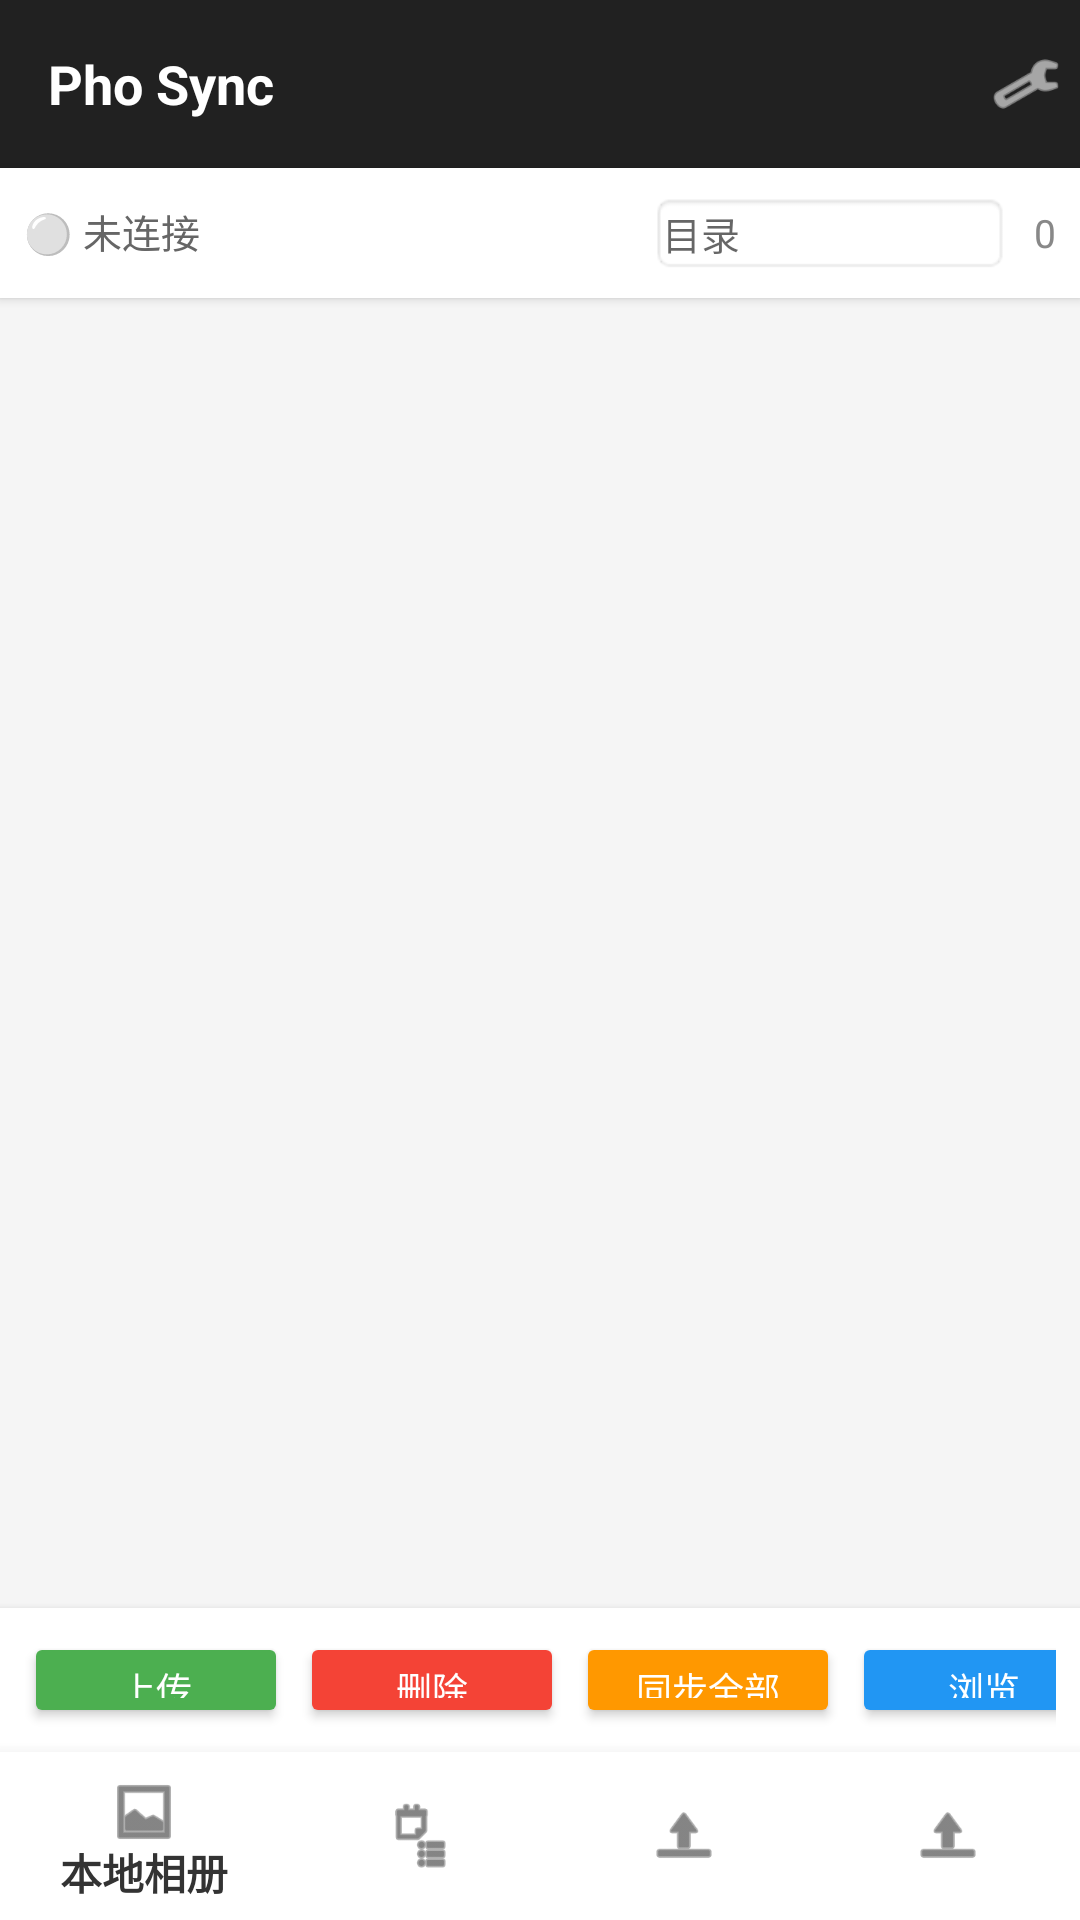

Icons on this 1080×1920 Android screen, each with its box as (x1, y1, x2, y2):
preferences: (993, 59, 1058, 109)
